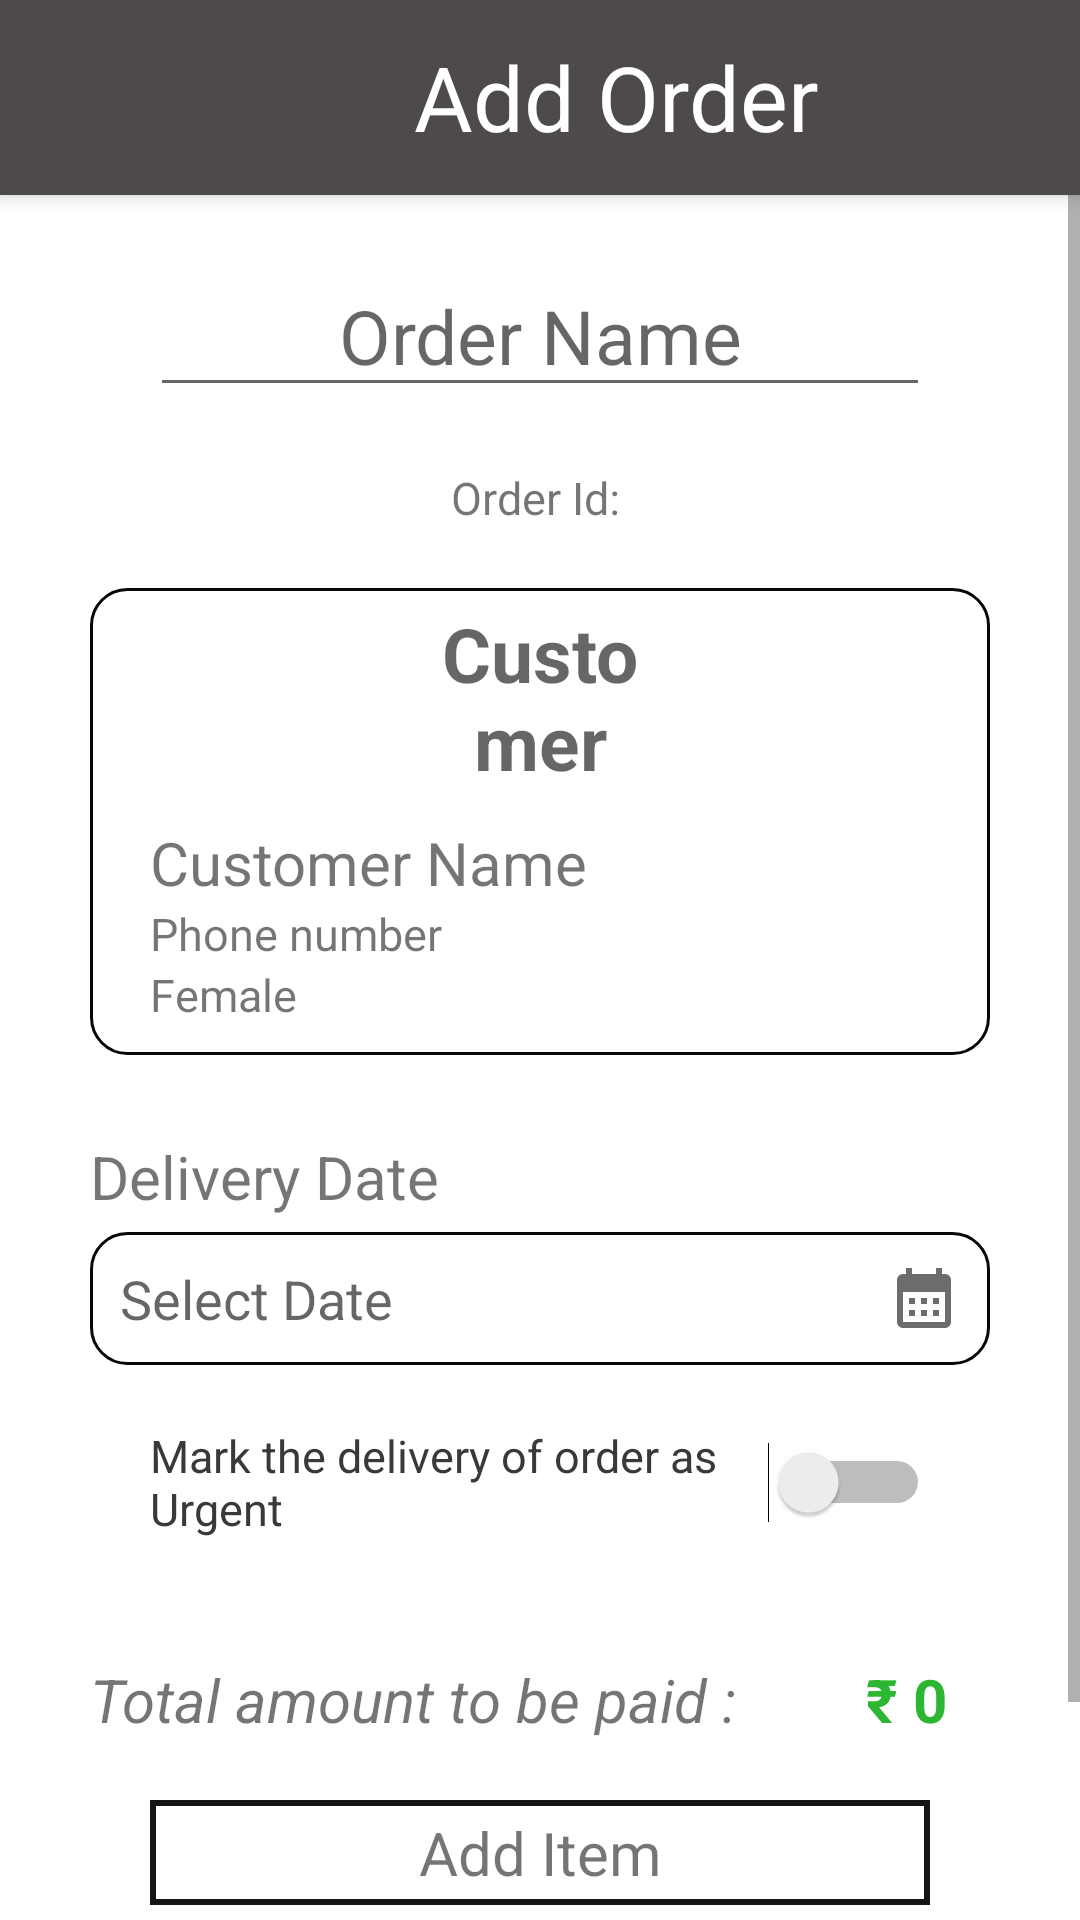

Screen size 1080x1920. Icon name, then its box in pixels as (x1, y1, x2, y2):
calendar month: (897, 1268, 951, 1328)
